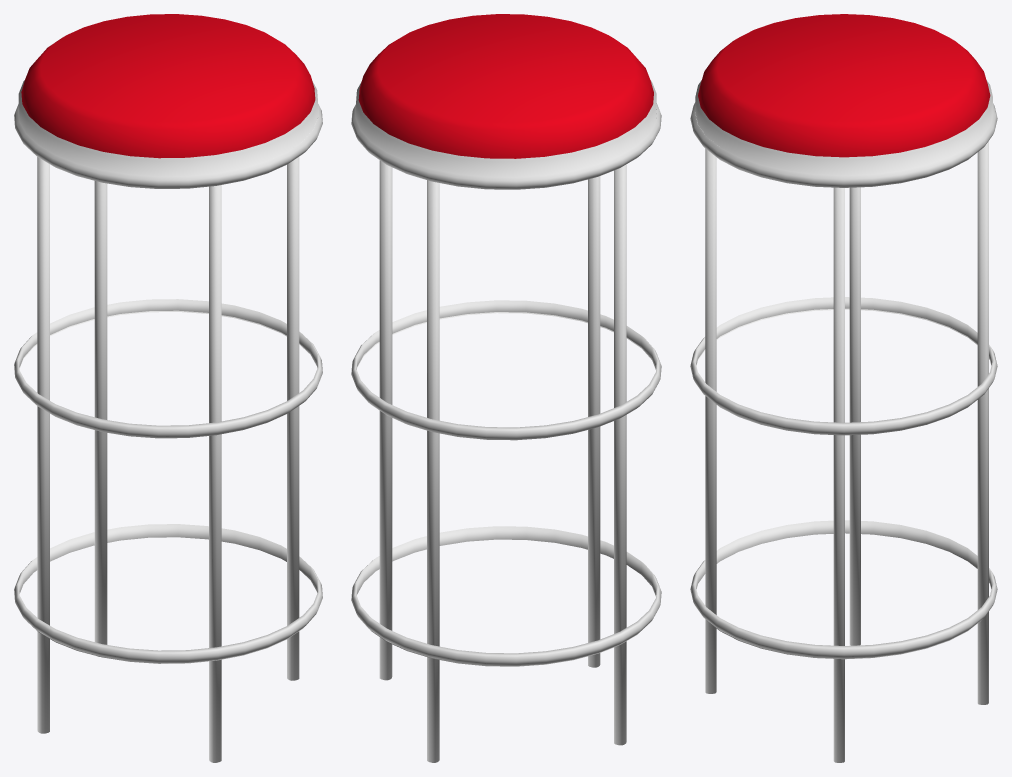
File: Laboratorio_Silla.fbx
The picture shows the model from 3 angles, left to right: view 1: azimuth 30°, elevation 25°; view 2: azimuth 150°, elevation 25°; view 3: azimuth 270°, elevation 25°; orthographic projection.
Visible parts, largest first — view 1: Laboratorio_Silla; view 2: Laboratorio_Silla; view 3: Laboratorio_Silla.
Part boxes in pixels (x1,y1,x2,y2): Laboratorio_Silla: (14,14,322,762); Laboratorio_Silla: (351,14,661,762); Laboratorio_Silla: (690,14,997,762).
Size of the model in its own units: 112 by 255 by 112.
